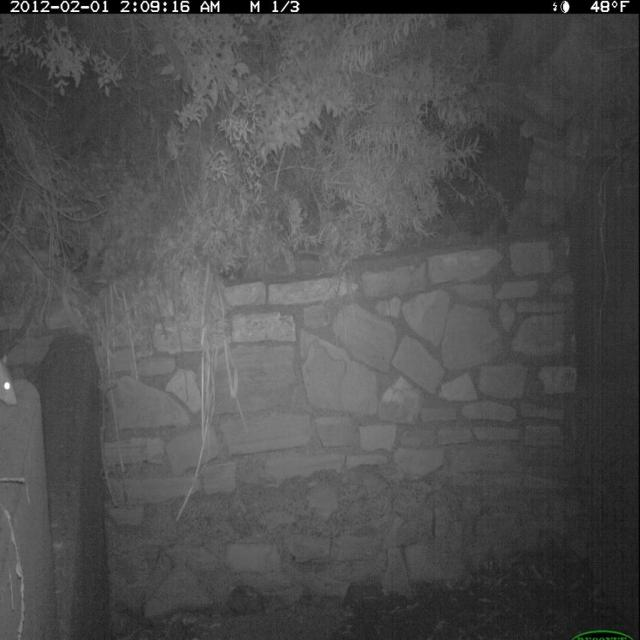rodent: (2, 343, 26, 423)
